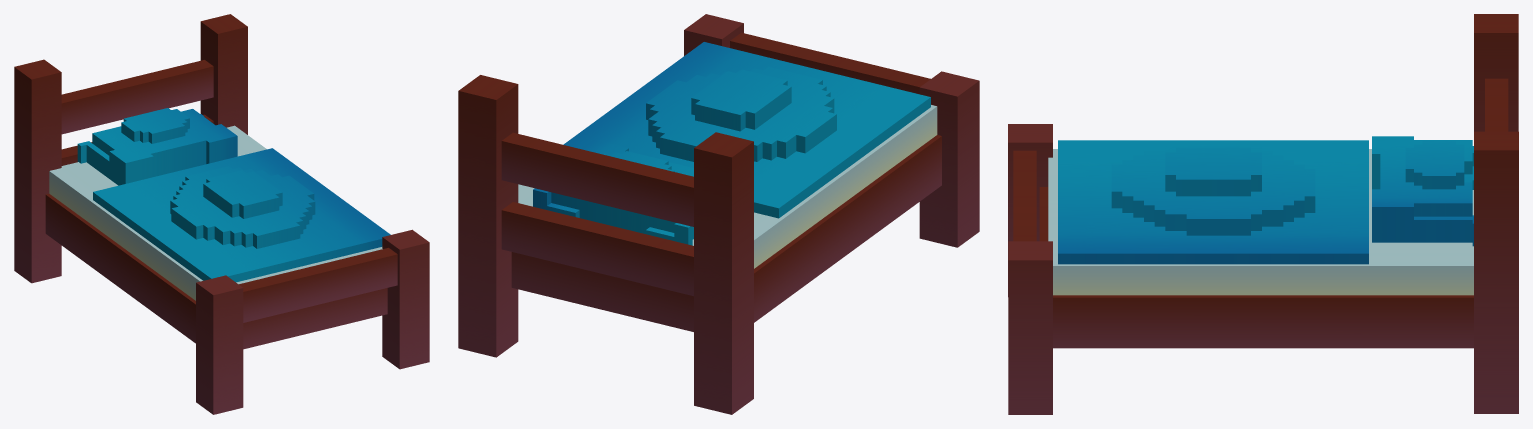
Rendered from Bed.fbx.
3 views of the same model, side by side, from view 1: azimuth 30°, elevation 25°; view 2: azimuth 150°, elevation 25°; view 3: azimuth 270°, elevation 25° (orthographic). The views are drawn at different scales.
Visible parts, largest first — view 1: Cube.003; view 2: Cube.003; view 3: Cube.003.
Part boxes in pixels (bbox=[...]): Cube.003: bbox=[14, 14, 429, 414]; Cube.003: bbox=[458, 14, 979, 414]; Cube.003: bbox=[1008, 14, 1518, 414].
Bounding box in the file's own units: 169 × 151 × 265.
